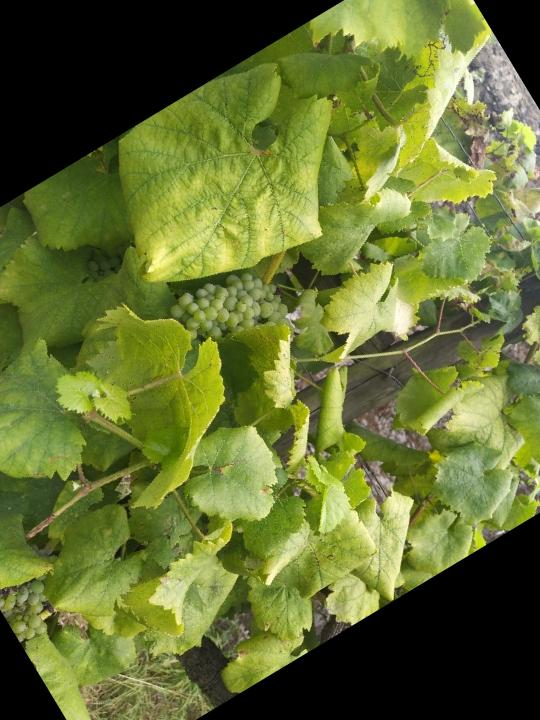grape: (163, 250, 292, 368)
